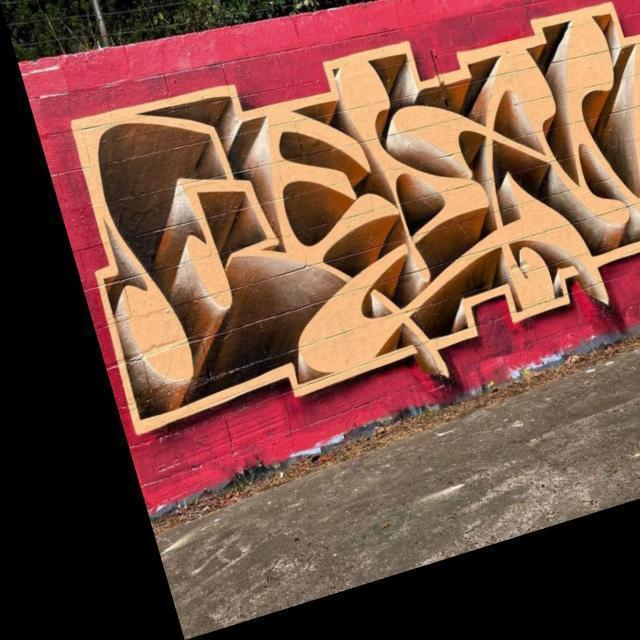nonspitting: (71, 1, 640, 438)
